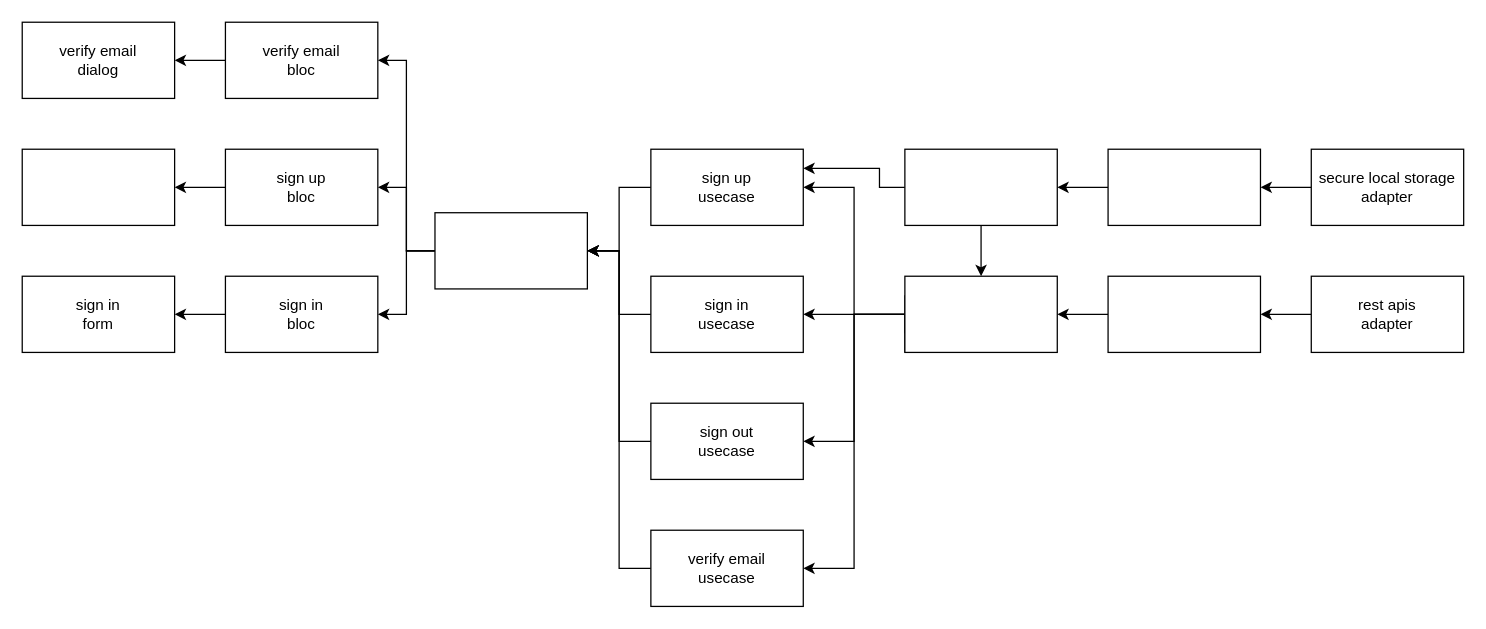
Some shapes in this 1486 by 629 pixel diagram are drawn without their labels. The shapes that lost their labels are listed below. From the top down, each one's centre as x and y in pixels, then its label:
At point (98, 186): "sign up form".
At point (980, 186): "preferences repository".
At point (1183, 186): "secure local storage data source".
At point (510, 250): "authentication bloc".
At point (980, 313): "authentication repository".
At point (1183, 313): "authentication api".
